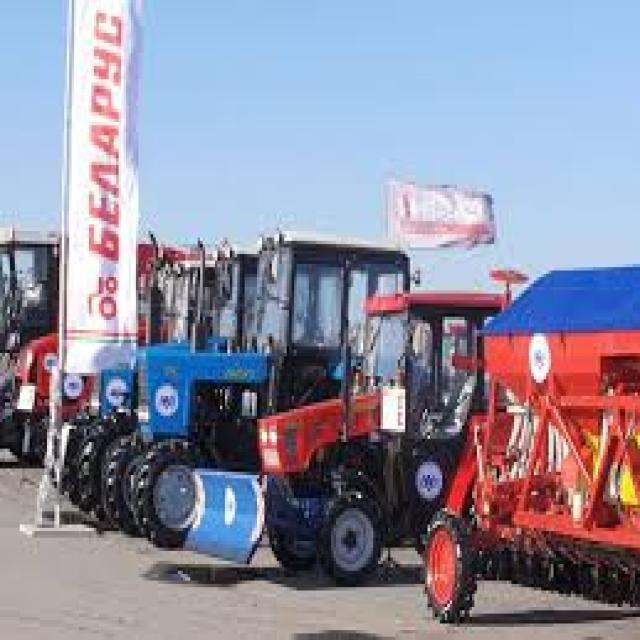Tratores - v5 YOLO V8L 2024-11-13: (235, 282, 577, 576), (156, 248, 452, 530)
